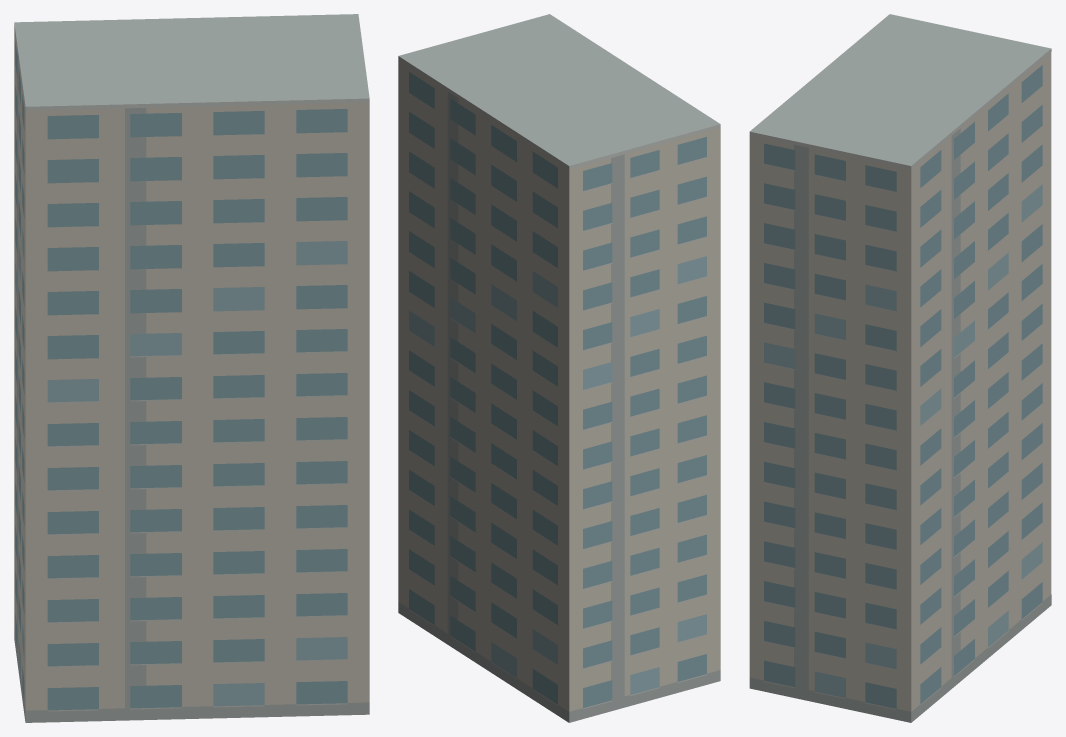
Rendered from residential-3d22e8c6-cf24-45e1-a5d2-10d0899ed0c5.glb.
3 views of the same model, side by side, from view 1: azimuth 30°, elevation 25°; view 2: azimuth 150°, elevation 25°; view 3: azimuth 270°, elevation 25° (orthographic). The views are drawn at different scales.
Visible parts, largest first — view 1: residential-3d22e8c6-cf24-45e1-a5d2-10d0899ed0c5.tmp; view 2: residential-3d22e8c6-cf24-45e1-a5d2-10d0899ed0c5.tmp; view 3: residential-3d22e8c6-cf24-45e1-a5d2-10d0899ed0c5.tmp.
Part boxes in pixels (bbox=[...]): residential-3d22e8c6-cf24-45e1-a5d2-10d0899ed0c5.tmp: bbox=[14, 14, 369, 722]; residential-3d22e8c6-cf24-45e1-a5d2-10d0899ed0c5.tmp: bbox=[398, 14, 720, 722]; residential-3d22e8c6-cf24-45e1-a5d2-10d0899ed0c5.tmp: bbox=[749, 14, 1051, 722].
Size of the model in its own units: 22.26 by 38 by 18.68.
